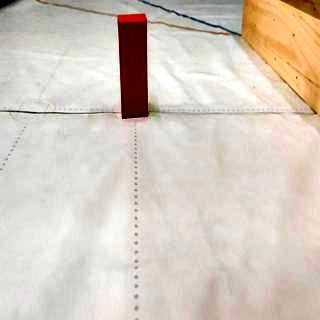redbox: (117, 13, 147, 118)
